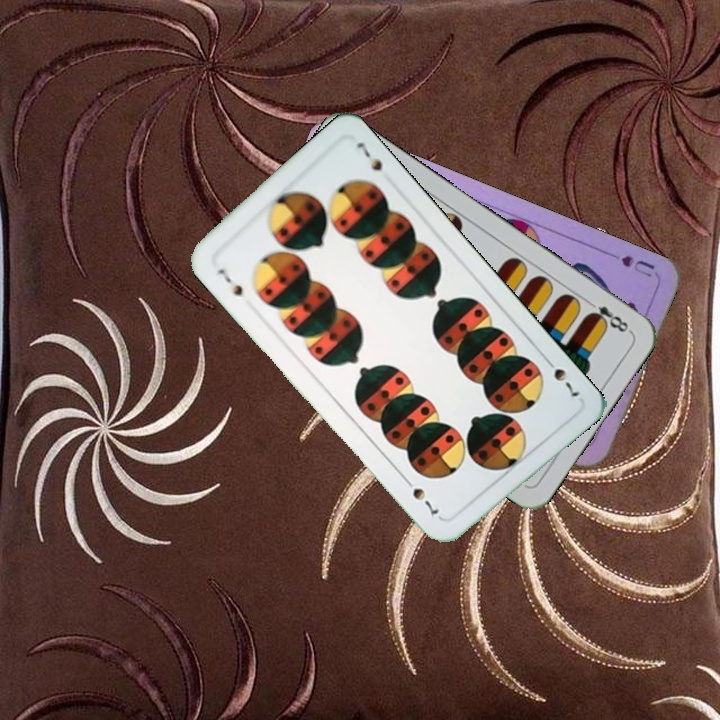E8: (582, 295, 634, 336)
S7: (540, 353, 583, 400), (213, 264, 246, 299)
SU: (600, 246, 658, 280)
